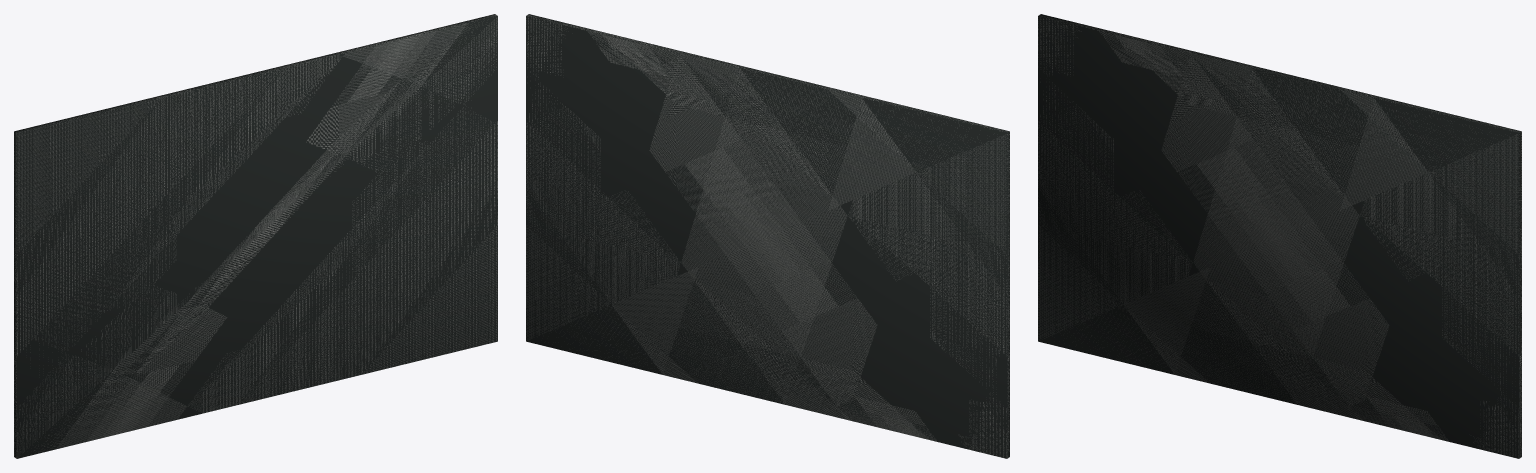
The model's file is board.dae.
The picture shows the model from 3 angles, left to right: view 1: azimuth 30°, elevation 25°; view 2: azimuth 150°, elevation 25°; view 3: azimuth 330°, elevation 25°; orthographic projection.
Parts seen in each view (by area): view 1: Group18/mesh22/mesh22-geometry/material_0#mesh22-geometry.00; view 2: Group18/mesh22/mesh22-geometry/material_0#mesh22-geometry.00; view 3: Group18/mesh22/mesh22-geometry/material_0#mesh22-geometry.00.
Boxes of the visible parts, x1,y1,x2,y2 form: Group18/mesh22/mesh22-geometry/material_0#mesh22-geometry.00: (14,14,497,458); Group18/mesh22/mesh22-geometry/material_0#mesh22-geometry.00: (526,14,1009,458); Group18/mesh22/mesh22-geometry/material_0#mesh22-geometry.00: (1038,14,1521,458).
Bounding box in the file's own units: 1.3 × 0.0129 × 0.8407.
Materials: 3 (3 with a texture image).
